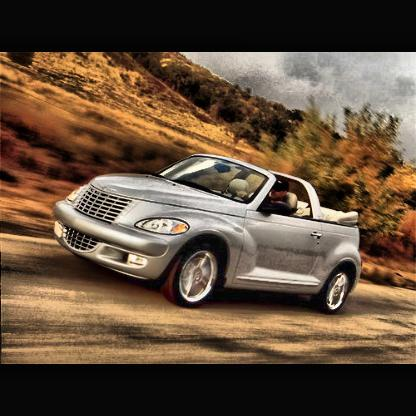Chrysler PT Cruiser Convertible 2008: (49, 151, 368, 315)
